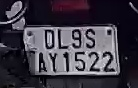1: (61, 51, 72, 75)
2: (102, 51, 117, 76), (87, 50, 101, 74)
5: (74, 47, 87, 74)
9: (71, 28, 84, 50)
A: (33, 50, 48, 73)
D: (42, 29, 55, 54)
L: (56, 29, 70, 52)
S: (85, 28, 98, 49)
Y: (49, 52, 60, 73)
